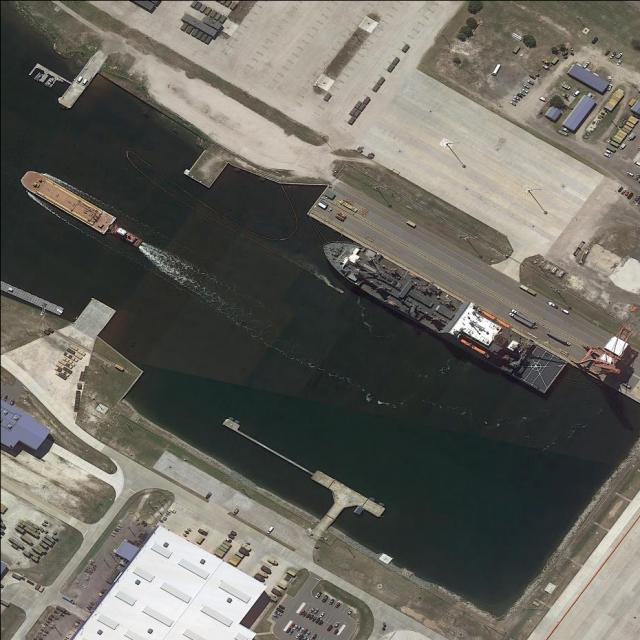Commander: (308, 222, 573, 401)
Dock: (220, 414, 384, 517)
Other Ship: (19, 167, 116, 235), (109, 224, 144, 250)
